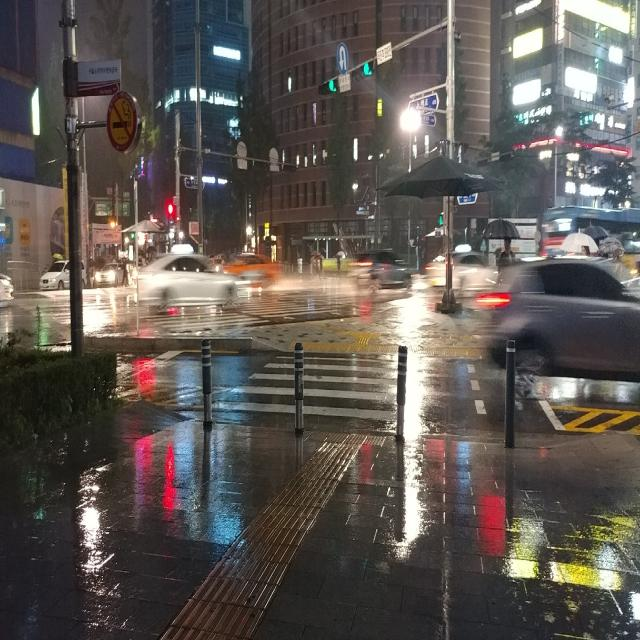횡단보도: (210, 355, 398, 423)
